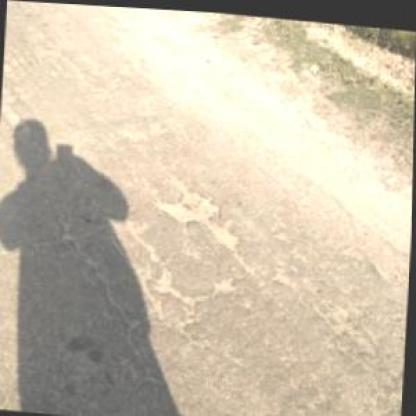pothole: (154, 176, 245, 248), (212, 271, 240, 296)
